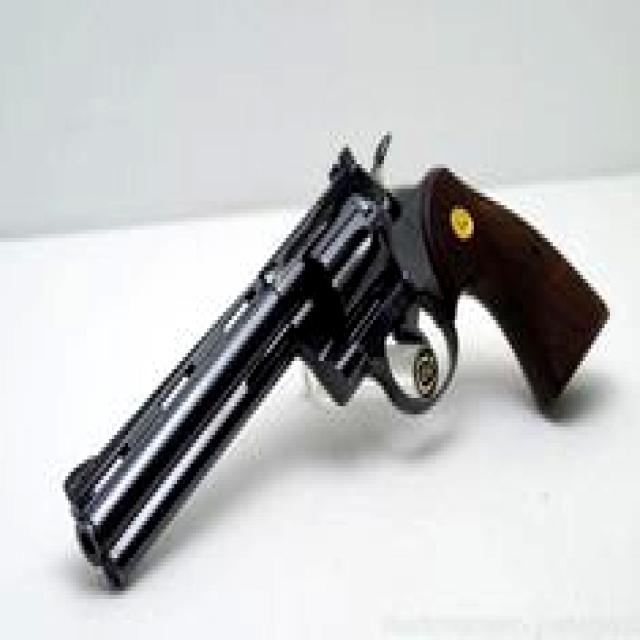revolver: (25, 39, 632, 607)
